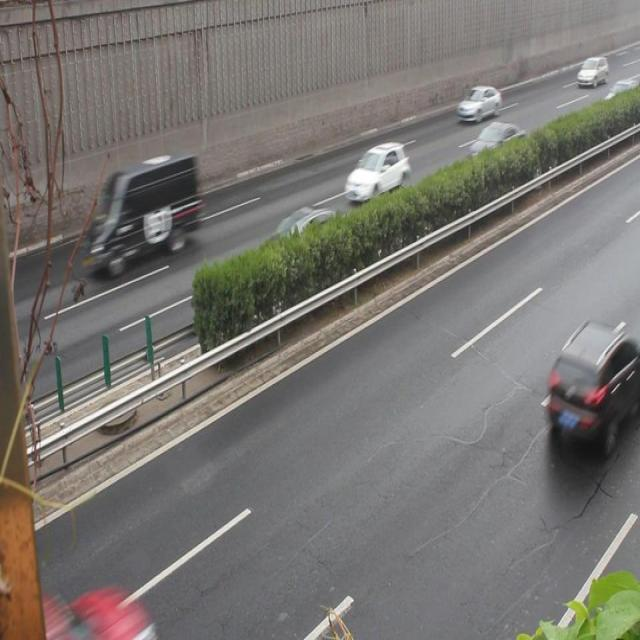car: (544, 322, 639, 451), (264, 206, 339, 274), (343, 141, 409, 203), (462, 121, 522, 174), (455, 84, 500, 123), (603, 78, 639, 115), (572, 54, 605, 86)
